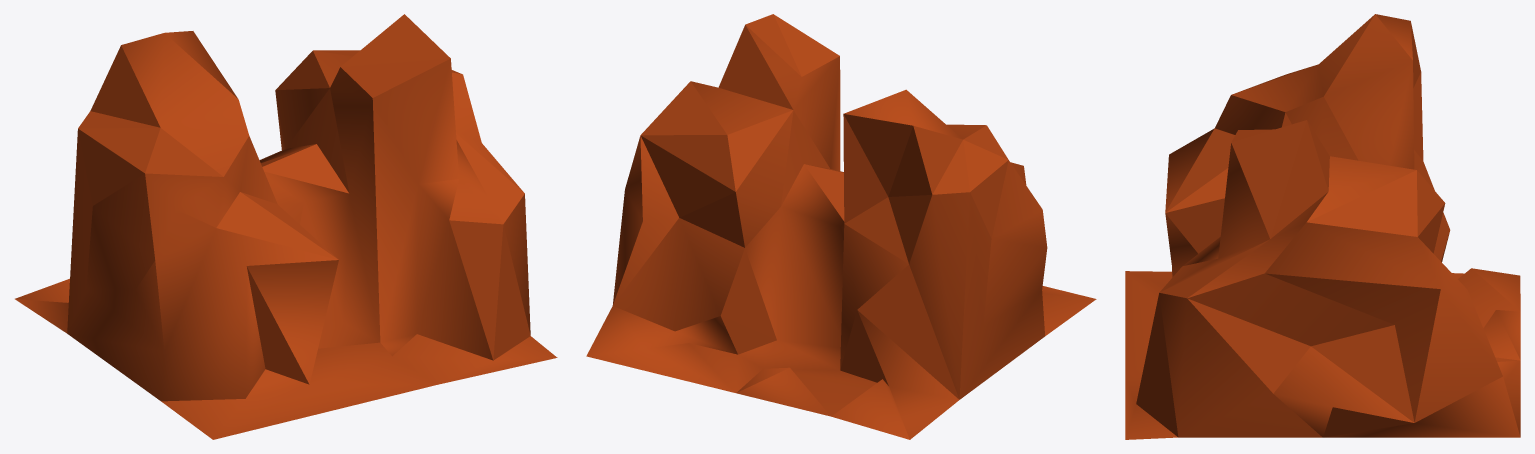
The model's file is Mountain_desert_002.glb.
3 renders of one model, left to right at view 1: azimuth 30°, elevation 25°; view 2: azimuth 150°, elevation 25°; view 3: azimuth 270°, elevation 25°, orthographic. The views are drawn at different scales.
Parts seen in each view (by area): view 1: Mountain_desert_002; view 2: Mountain_desert_002; view 3: Mountain_desert_002.
Part boxes in pixels (left/top/right/bottom): Mountain_desert_002: left=15, top=14, right=557, bottom=439; Mountain_desert_002: left=586, top=14, right=1096, bottom=439; Mountain_desert_002: left=1125, top=14, right=1520, bottom=439.
Size of the model in its own units: 25.04 by 19.18 by 23.
Materials: 1 (1 with a texture image).
